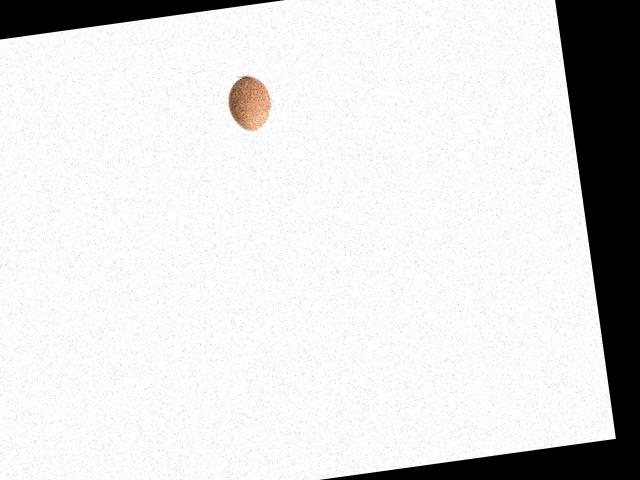egg: (224, 73, 273, 132)
